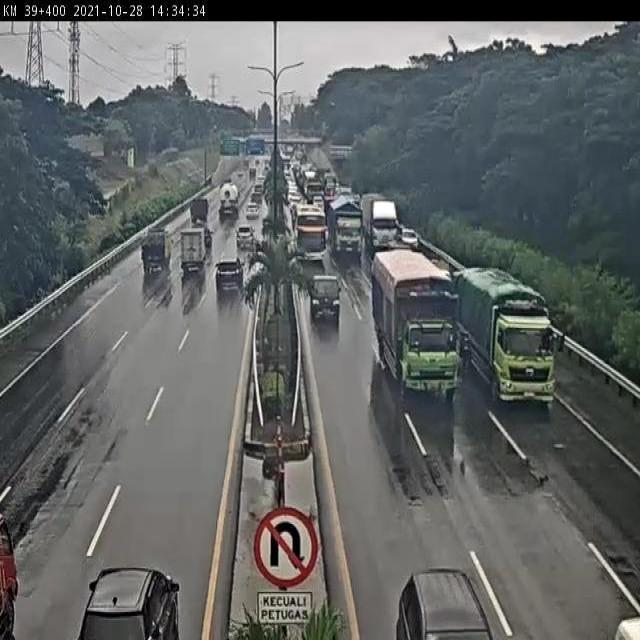big bus: (294, 203, 329, 265)
big truck: (455, 262, 569, 410), (370, 252, 456, 395), (327, 193, 365, 264), (366, 188, 399, 252)
car: (76, 564, 182, 640), (141, 221, 174, 275), (311, 276, 342, 327), (180, 226, 206, 278), (213, 253, 247, 292), (395, 219, 418, 252), (188, 193, 212, 224), (234, 223, 255, 253)
